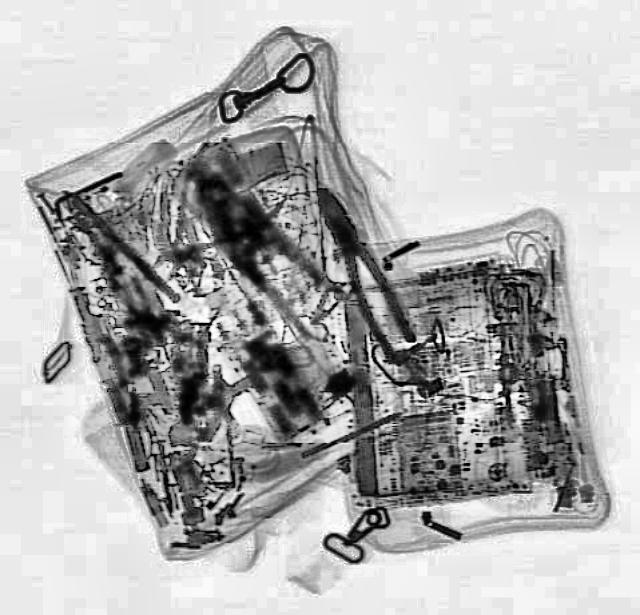Pliers: (163, 148, 347, 336), (300, 180, 422, 364)
